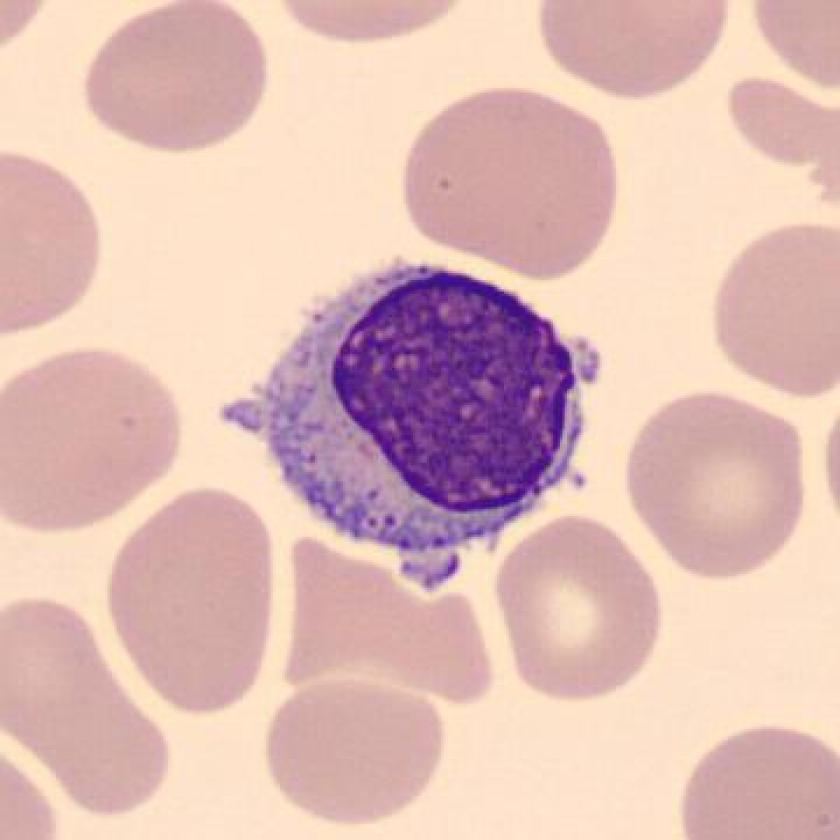lymphocyte: (199, 244, 615, 610)
